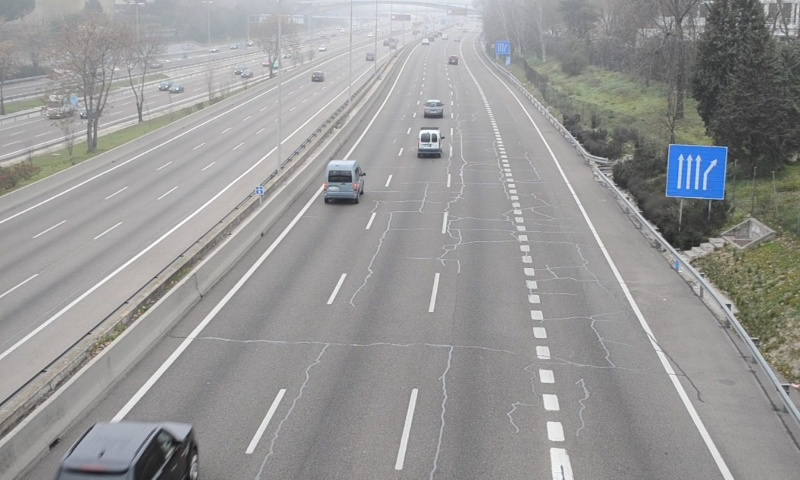car: (423, 99, 444, 118)
van: (326, 160, 364, 201), (417, 127, 442, 156)
